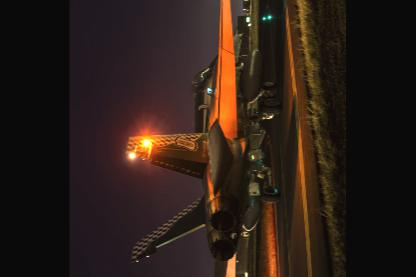F15: (124, 0, 281, 276)
